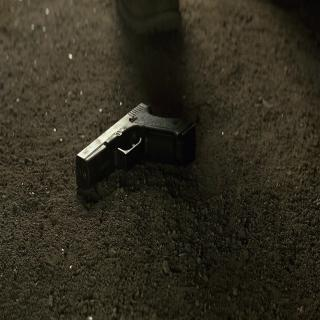gun: (72, 96, 198, 197)
